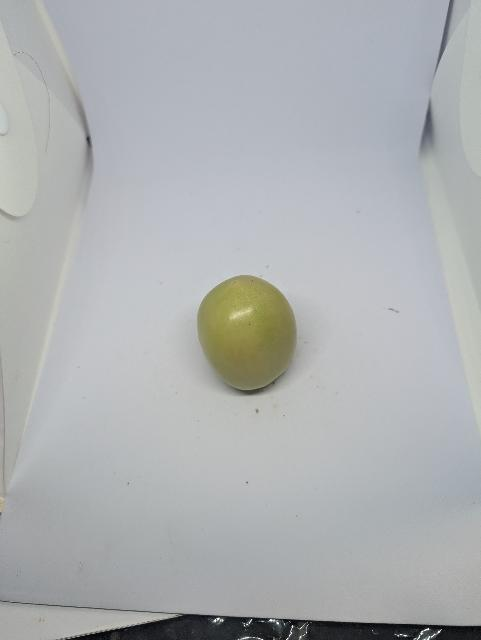green: (193, 271, 300, 393)
